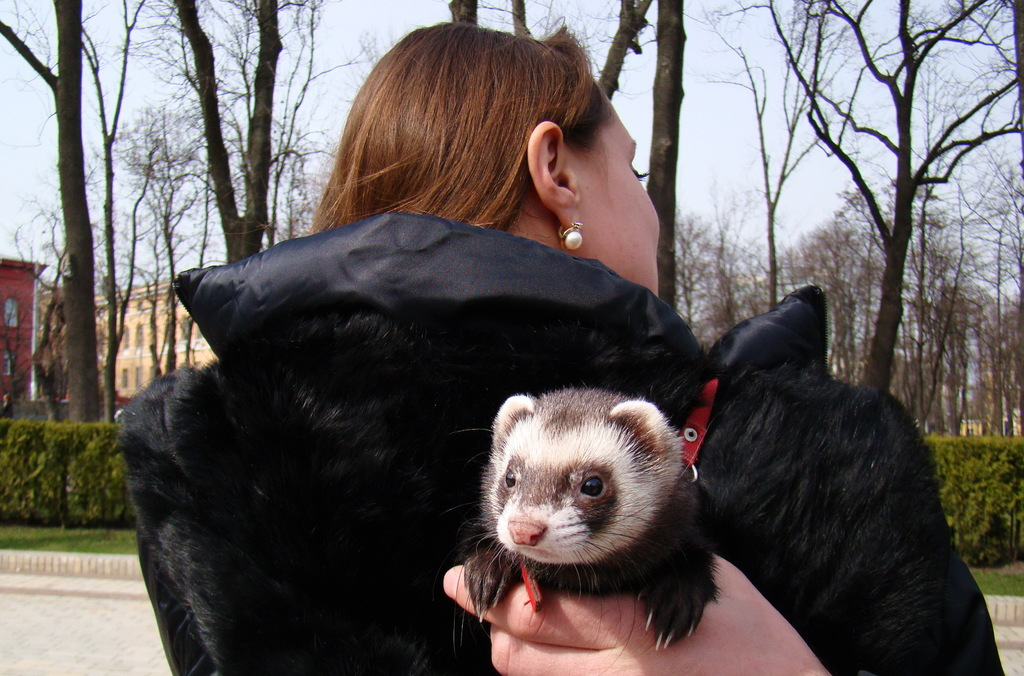Tree: (0, 0, 1023, 435)
